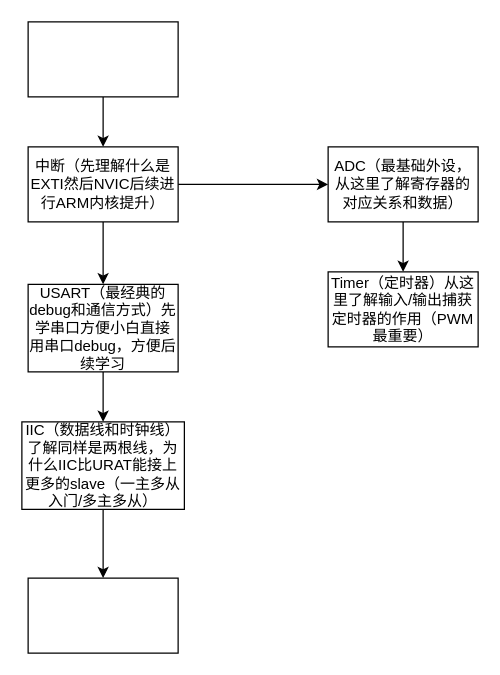
Some shapes in this 500 by 675 pixel diagram are drawn without their labels. The centre of each missing label's shape, as x and y in pixels:
GPIO 了解MCU的引脚的八种输入输出的特点: [102,59]
SPI（4线SPi）个人认为SPI挺重要的，和flsh通信: [102,615]
